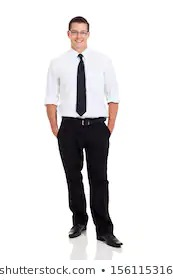F_belt: (61, 116, 110, 128)
F_dress pants: (57, 114, 120, 231)
F_shirt: (43, 43, 121, 117)
F_tie: (76, 51, 88, 115)
